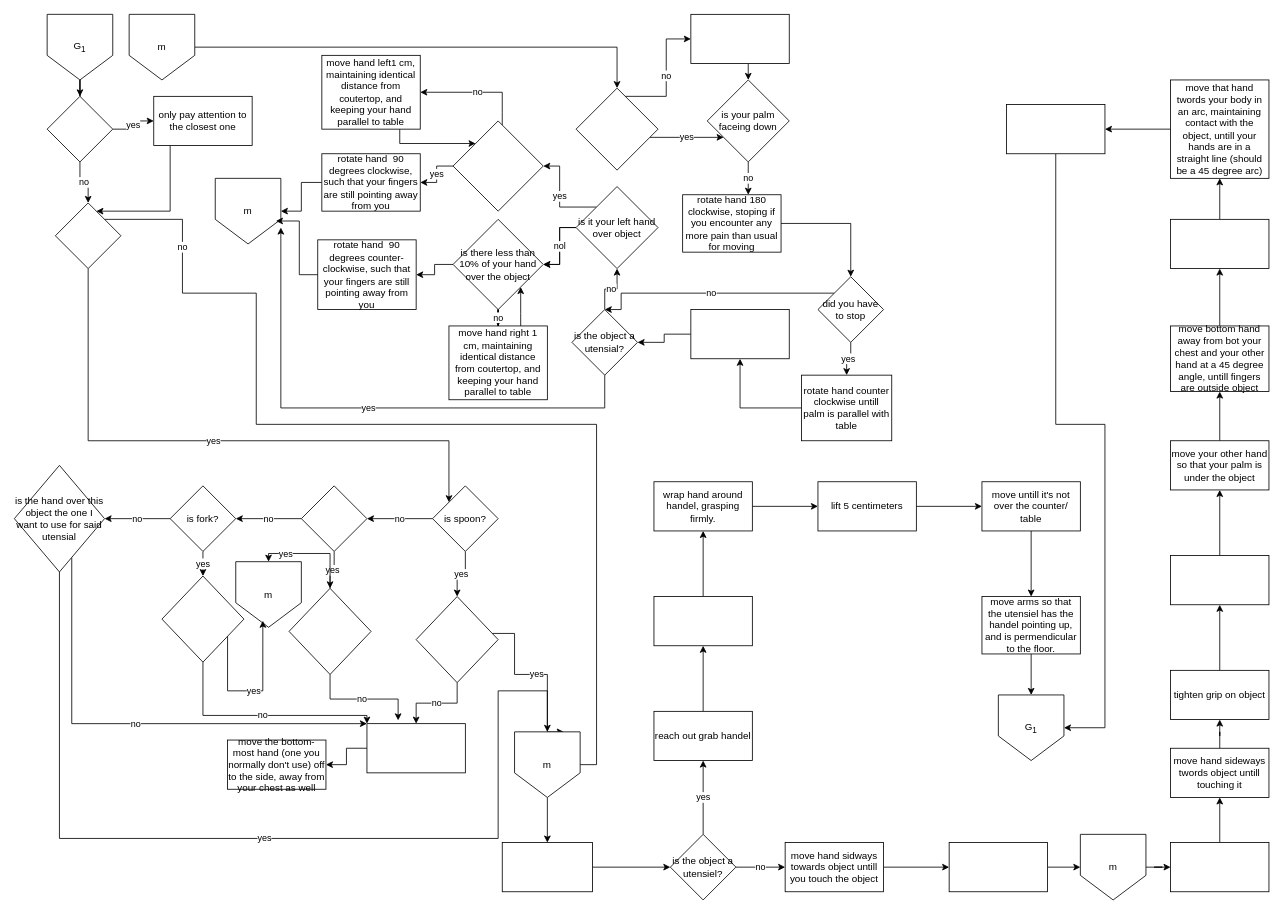
The diagram is 1283 pixels wide and 914 high, and some of its shapes have lost their labels. Here are the shapes that lost their labels. From the top down, the centre of each, then its label:
At point (739, 39): "rotate hand untill it is parallel with table top".
At point (79, 129): "more than one object?".
At point (616, 128): "is your palm parallel with the tabletop".
At point (1055, 129): "lift object up 3 cm".
At point (497, 165): "is there no more than 10% of your palm above the object".
At point (88, 235): "is object utensil?".
At point (1219, 244): "wrap those fingers around the object".
At point (739, 334): "rotate hand 180 degrees counter clockwise".
At point (334, 518): "is knife?".
At point (1219, 580): "move the hand surrounding the object up 1 cm".
At point (202, 618): "is the hand over the object the one I normally use for forks?".
At point (329, 631): "is the hand over the object the one I normally use for knifes?".
At point (702, 621): "rotate object so that handel is faceing you, and object is perpendicular".
At point (456, 639): "is the hand over the object the one I normally use for spoons?".
At point (415, 748): "move the hand that isn't over the object over your current hand".
At point (546, 867): "move hand down untill you hit the counter or object".
At point (998, 867): "curve fingers around object, shifting to grab more if grasp".
At point (1219, 867): "rotate hand 90 degrees such that palm is faceing up".
